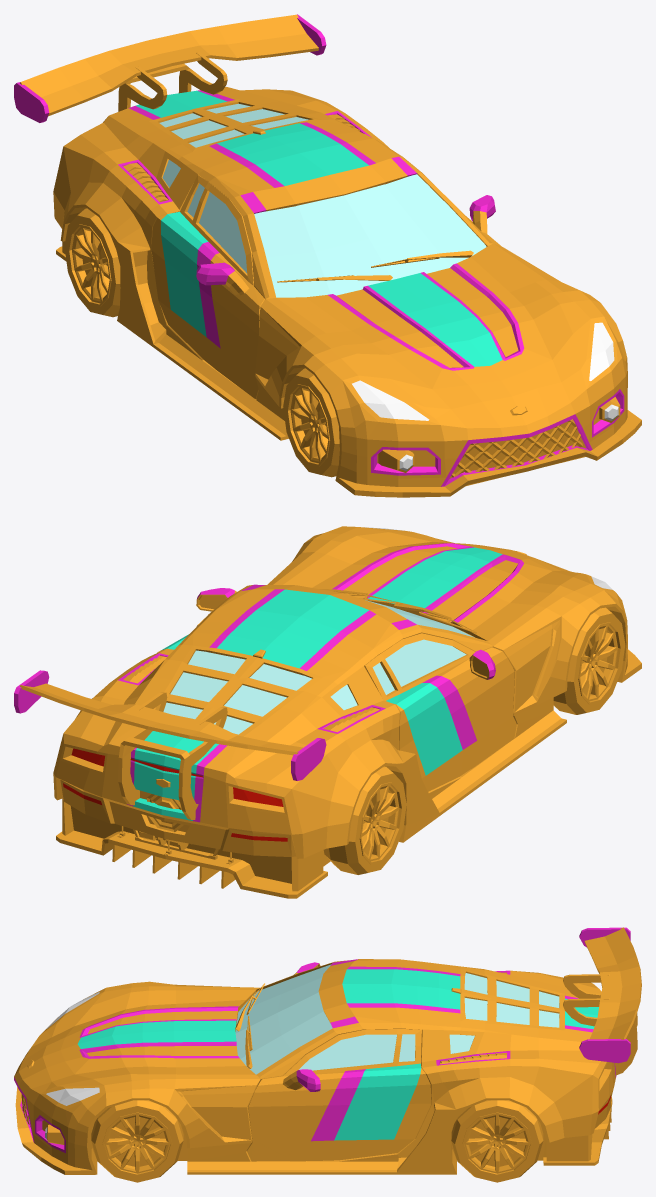
Rendered from SM_Car_GTE_Modern_Racing.fbx.
3 views of the same model, one above another, from view 1: azimuth 30°, elevation 25°; view 2: azimuth 150°, elevation 25°; view 3: azimuth 270°, elevation 25° (orthographic). The views are drawn at different scales.
Visible parts, largest first — view 1: SM_Car_GTE_Moder_Racing_Base, SM_Car_GTE_Moder_Racing_Door_R, SM_Car_GTE_Moder_Racing_Wheel_RB, SM_Car_GTE_Moder_Racing_Wheel_RF, SM_Car_GTE_Moder_Racing_Door_L; view 2: SM_Car_GTE_Moder_Racing_Base, SM_Car_GTE_Moder_Racing_Door_R, SM_Car_GTE_Moder_Racing_Wheel_RB, SM_Car_GTE_Moder_Racing_Wheel_RF, SM_Car_GTE_Moder_Racing_Door_L; view 3: SM_Car_GTE_Moder_Racing_Base, SM_Car_GTE_Moder_Racing_Door_L, SM_Car_GTE_Moder_Racing_Wheel_LB, SM_Car_GTE_Moder_Racing_Wheel_LF.
Boxes of the visible parts, x1=… form: SM_Car_GTE_Moder_Racing_Base: x1=14, y1=14, x2=641, y2=497; SM_Car_GTE_Moder_Racing_Door_R: x1=151, y1=174, x2=264, y2=399; SM_Car_GTE_Moder_Racing_Wheel_RB: x1=64, y1=208, x2=120, y2=317; SM_Car_GTE_Moder_Racing_Wheel_RF: x1=283, y1=368, x2=339, y2=477; SM_Car_GTE_Moder_Racing_Door_L: x1=365, y1=134, x2=501, y2=246; SM_Car_GTE_Moder_Racing_Base: x1=14, y1=526, x2=641, y2=898; SM_Car_GTE_Moder_Racing_Door_R: x1=364, y1=633, x2=516, y2=791; SM_Car_GTE_Moder_Racing_Wheel_RB: x1=323, y1=766, x2=406, y2=874; SM_Car_GTE_Moder_Racing_Wheel_RF: x1=553, y1=607, x2=625, y2=714; SM_Car_GTE_Moder_Racing_Door_L: x1=157, y1=588, x2=236, y2=652; SM_Car_GTE_Moder_Racing_Base: x1=14, y1=927, x2=641, y2=1174; SM_Car_GTE_Moder_Racing_Door_L: x1=247, y1=1029, x2=431, y2=1161; SM_Car_GTE_Moder_Racing_Wheel_LB: x1=451, y1=1100, x2=543, y2=1182; SM_Car_GTE_Moder_Racing_Wheel_LF: x1=91, y1=1100, x2=183, y2=1182.
Size of the model in its own units: 2.41 by 1.37 by 5.36.
